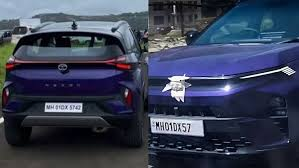Tata Nexon: (2, 16, 148, 149)
